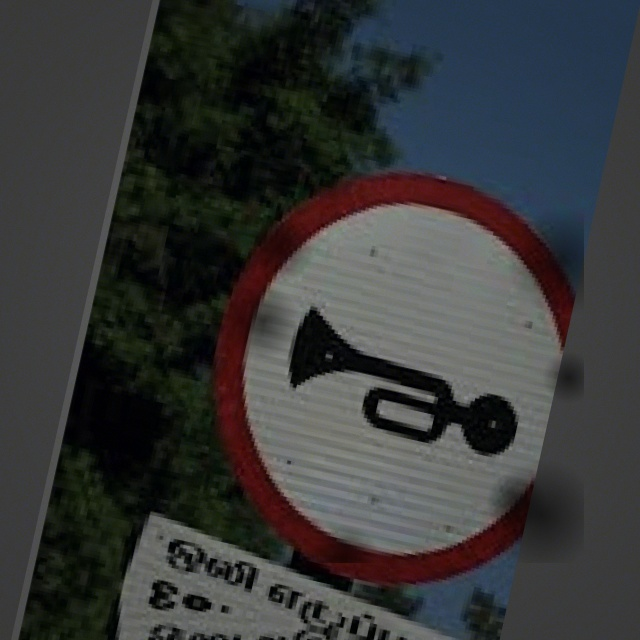Compulsory_Sound_Horn: (203, 151, 584, 563)
